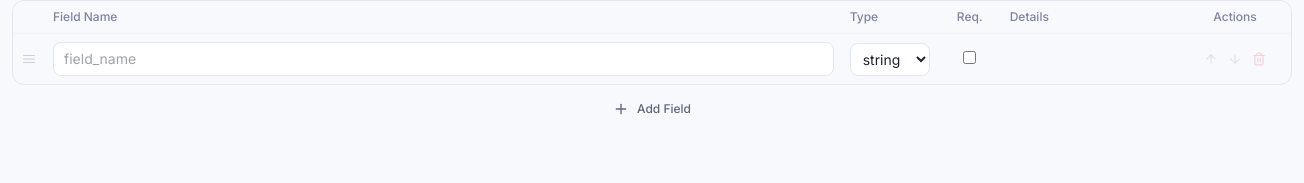
Test: SchemaBuilder › adds a new field when Add Field is clicked
The width and height of the screenshot is (1304, 183).
Click the button "Add Field": click(652, 109) [12, 93, 1292, 125]
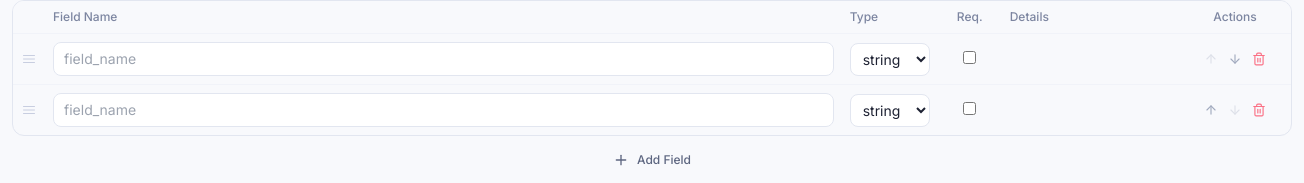
Expected: the number of fields with placeholder "field_name" is 2, [53, 42, 834, 76]; [53, 93, 834, 127]
